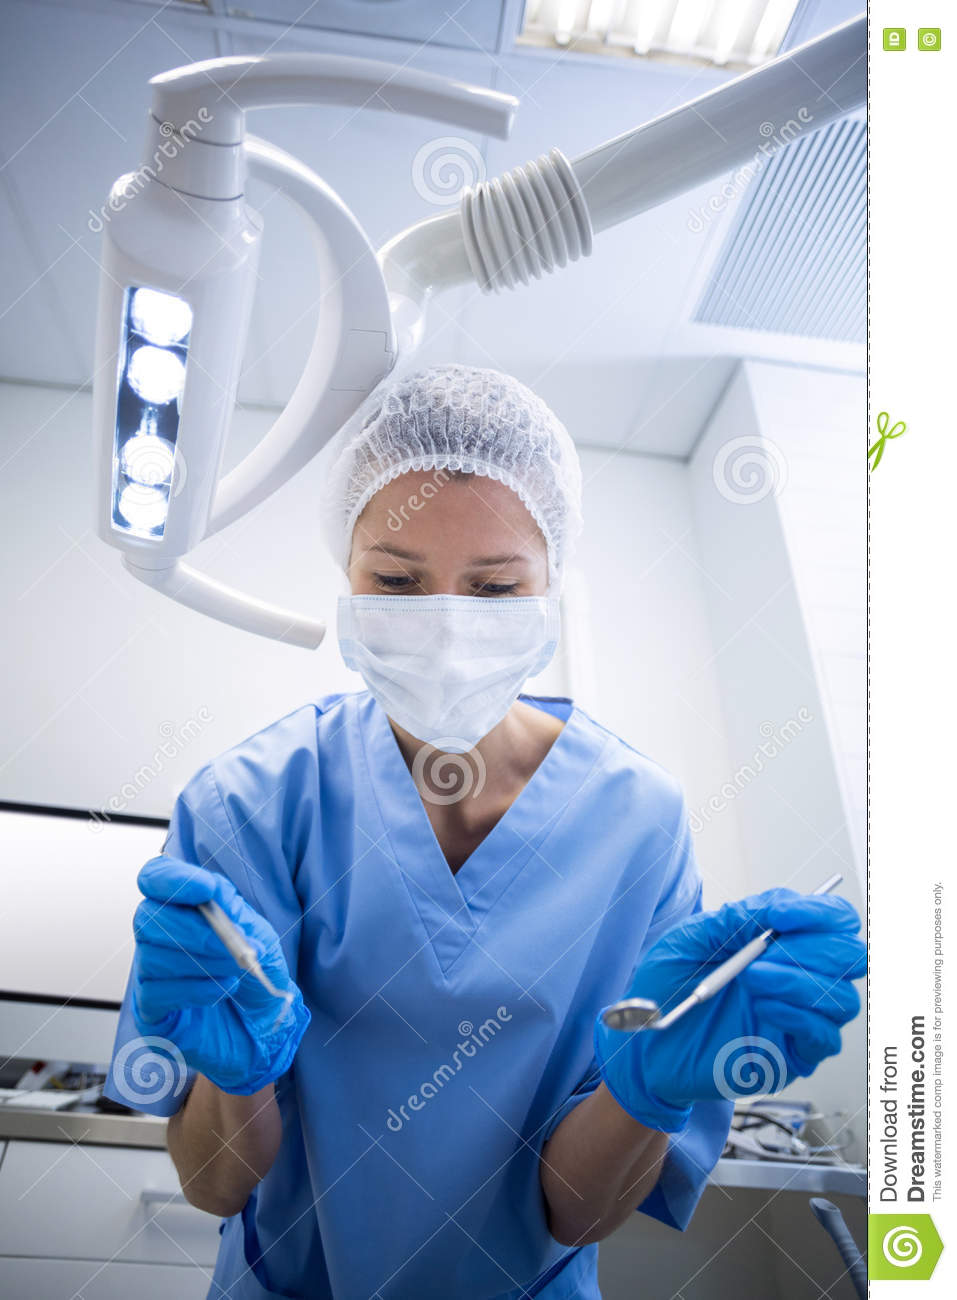mask: (328, 579, 572, 765)
